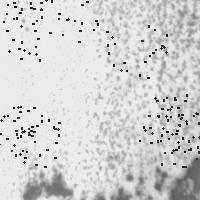pitted_surface: (74, 1, 199, 174), (0, 106, 58, 166), (139, 94, 198, 151), (106, 25, 166, 77), (40, 0, 97, 41), (0, 2, 40, 59), (161, 108, 200, 166), (155, 157, 200, 200), (20, 166, 72, 200), (0, 102, 33, 154)
